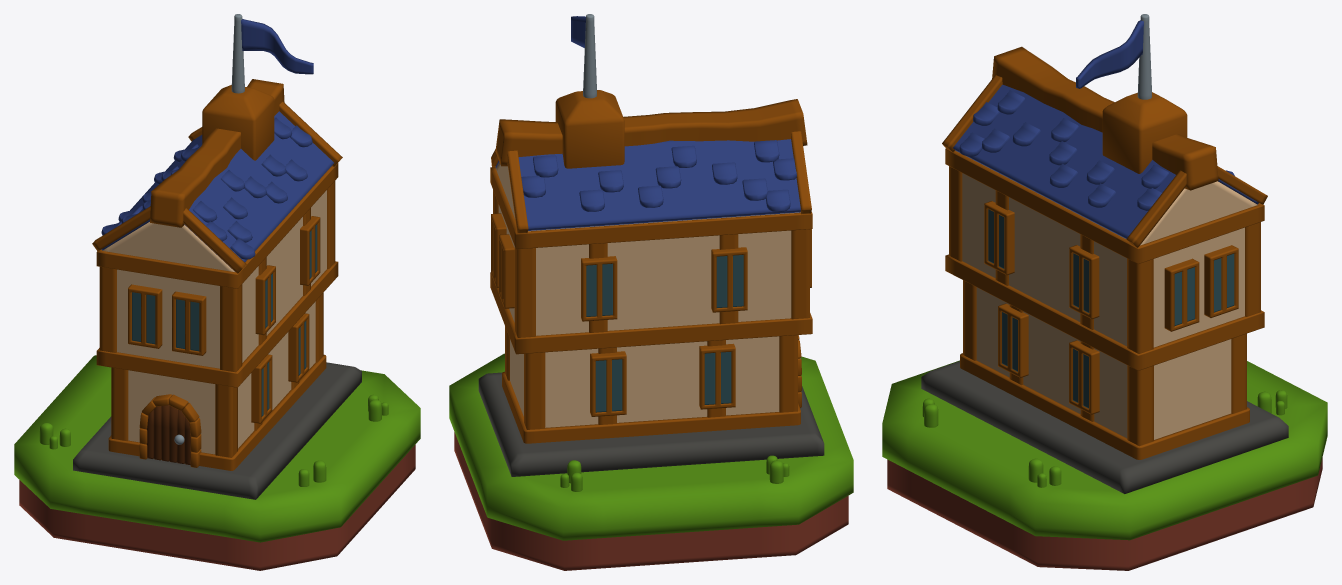
The picture shows the model from 3 angles, left to right: view 1: azimuth 30°, elevation 25°; view 2: azimuth 150°, elevation 25°; view 3: azimuth 270°, elevation 25°; orthographic projection. The views are drawn at different scales.
Parts seen in each view (by area): view 1: Medieval House 9.010, Medieval House 9.007, Medieval House 9.003, Medieval House 9.004, Medieval House 9.009, Medieval House 9.005, Medieval House 9.006, Medieval House 9.012, Medieval House 9.001, Medieval House 9.013, Medieval House 9.015, Medieval House 9 (+3 smaller); view 2: Medieval House 9.010, Medieval House 9.007, Medieval House 9.004, Medieval House 9.003, Medieval House 9.005, Medieval House 9.001, Medieval House 9.006, Medieval House 9.009, Medieval House 9.012, Medieval House 9.013, Medieval House 9.002, Medieval House 9.008; view 3: Medieval House 9.010, Medieval House 9.007, Medieval House 9.003, Medieval House 9.004, Medieval House 9.005, Medieval House 9.009, Medieval House 9.006, Medieval House 9.001, Medieval House 9.012, Medieval House 9.013, Medieval House 9, Medieval House 9.002 (+1 smaller).
Boxes of the visible parts, x1,y1,x2,y2 form: Medieval House 9.010: (14, 355, 420, 542); Medieval House 9.007: (96, 163, 338, 470); Medieval House 9.003: (102, 190, 326, 368); Medieval House 9.004: (101, 111, 333, 271); Medieval House 9.009: (19, 444, 415, 570); Medieval House 9.005: (92, 79, 342, 273); Medieval House 9.006: (73, 362, 361, 499); Medieval House 9.012: (128, 216, 320, 423); Medieval House 9.001: (128, 301, 315, 454); Medieval House 9.013: (132, 224, 317, 416); Medieval House 9.015: (146, 405, 190, 465); Medieval House 9: (241, 19, 313, 74); Medieval House 9.010: (449, 353, 853, 540); Medieval House 9.007: (490, 167, 812, 443); Medieval House 9.004: (495, 139, 800, 230); Medieval House 9.003: (496, 162, 800, 335); Medieval House 9.005: (491, 90, 811, 233); Medieval House 9.001: (510, 336, 779, 427); Medieval House 9.006: (478, 372, 824, 476); Medieval House 9.009: (454, 432, 848, 570); Medieval House 9.012: (491, 213, 811, 416); Medieval House 9.013: (586, 255, 743, 412); Medieval House 9.002: (560, 455, 789, 491); Medieval House 9.008: (583, 14, 596, 98); Medieval House 9.010: (882, 360, 1327, 540); Medieval House 9.007: (945, 148, 1264, 459); Medieval House 9.003: (955, 150, 1257, 347); Medieval House 9.004: (953, 84, 1258, 238); Medieval House 9.005: (942, 46, 1267, 247); Medieval House 9.009: (887, 457, 1322, 570); Medieval House 9.006: (921, 361, 1288, 493); Medieval House 9.001: (976, 287, 1231, 439); Medieval House 9.012: (984, 201, 1238, 414); Medieval House 9.013: (988, 209, 1234, 408); Medieval House 9: (1076, 20, 1143, 88); Medieval House 9.002: (922, 390, 1287, 487).
Bounding box in the file's own units: 7.02 × 8.42 × 7.02.
